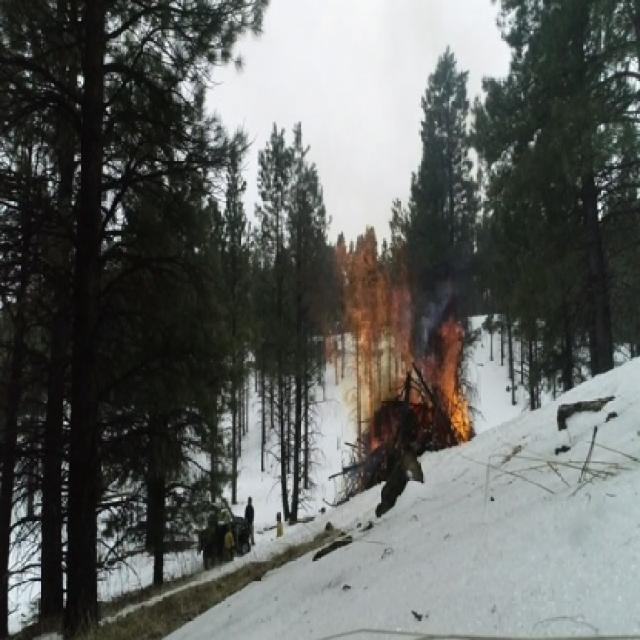Fire: (329, 223, 477, 465)
